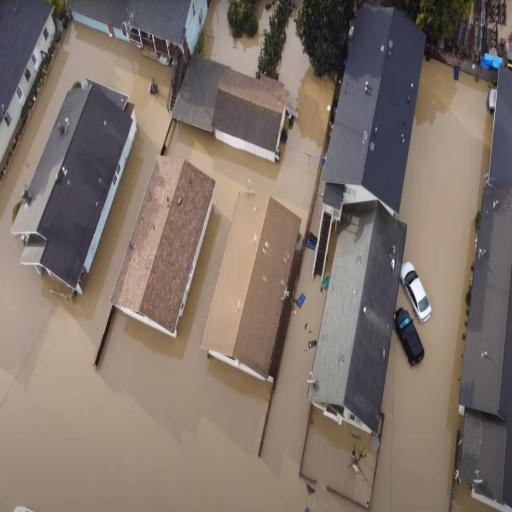flood: (0, 15, 357, 509), (372, 59, 493, 511), (300, 407, 380, 509), (203, 0, 269, 76)
house: (309, 200, 412, 432), (33, 76, 139, 296), (327, 8, 435, 216), (200, 184, 303, 387), (126, 158, 218, 340), (458, 182, 512, 423), (0, 0, 58, 172), (64, 0, 208, 65), (216, 71, 286, 165)
